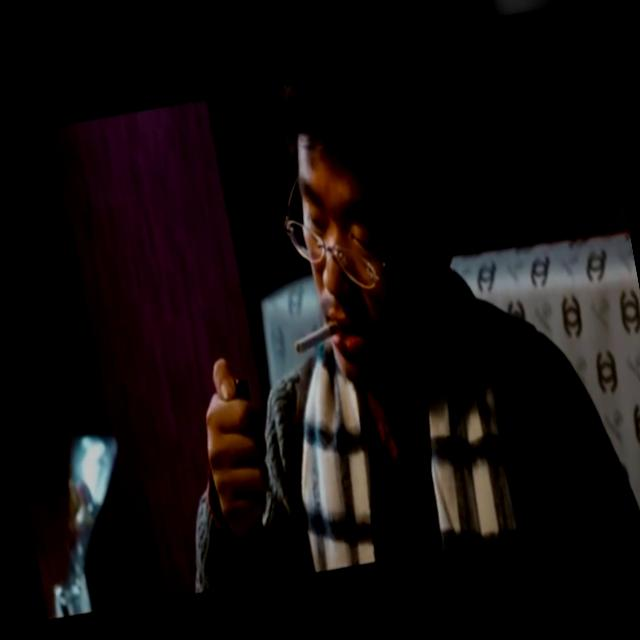smoke: (290, 322, 346, 360)
